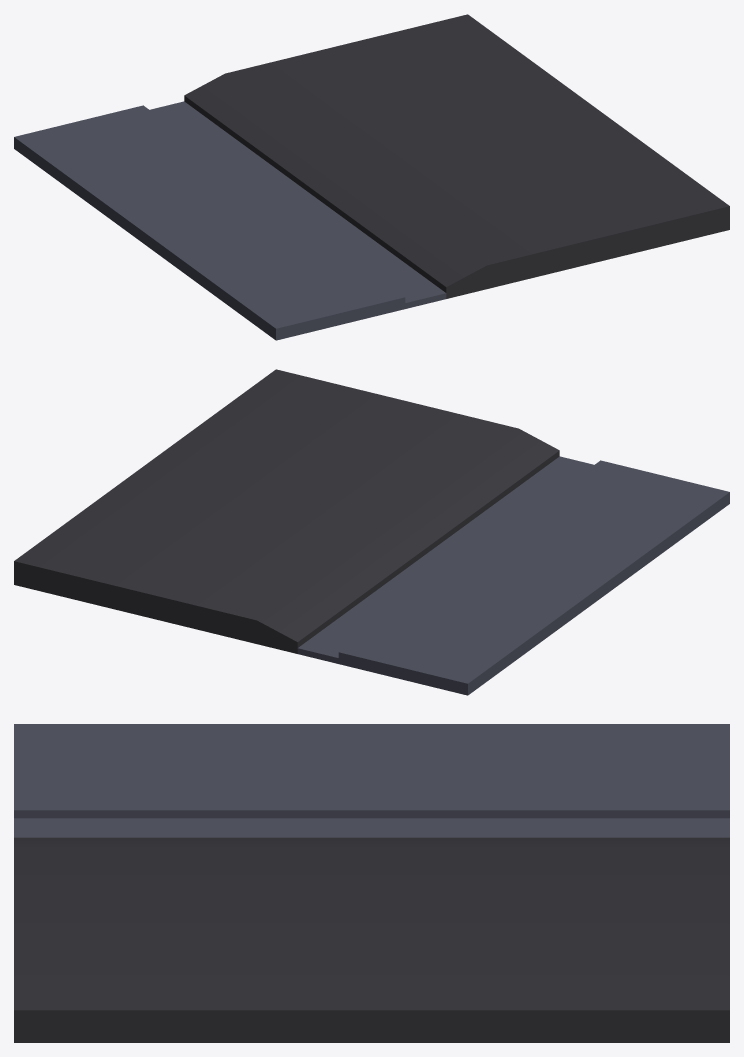
The model's file is road-edge.glb.
3 views of the same model, one above another, from view 1: azimuth 30°, elevation 25°; view 2: azimuth 150°, elevation 25°; view 3: azimuth 270°, elevation 25° (orthographic). The views are drawn at different scales.
Visible parts, largest first — view 1: road-edge; view 2: road-edge; view 3: road-edge.
Part boxes in pixels (left/top/right/bottom): road-edge: left=14, top=14, right=729, bottom=340; road-edge: left=14, top=369, right=729, bottom=695; road-edge: left=14, top=724, right=729, bottom=1042.
Bounding box in the file's own units: 1 × 0.05 × 1.
1 material, 1 textured.
